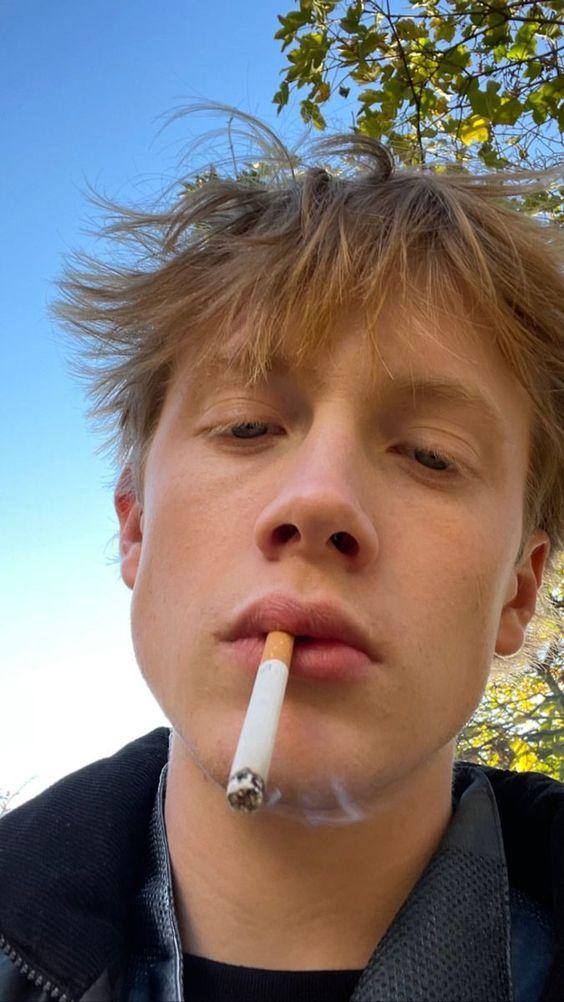cigarette: (226, 630, 294, 812)
